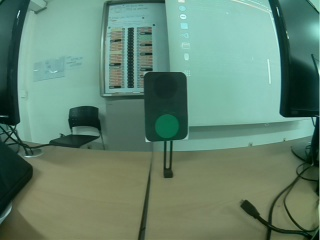green_light: (143, 73, 182, 140)
